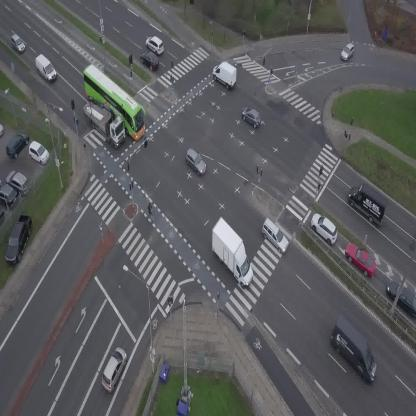bicycle: (145, 202, 155, 220)
bus: (73, 60, 156, 142)
car: (340, 237, 382, 281), (96, 345, 131, 394), (256, 217, 294, 255), (306, 209, 343, 247), (180, 147, 211, 178), (238, 103, 266, 130), (142, 32, 168, 58), (137, 48, 162, 74), (6, 33, 27, 56), (338, 41, 357, 62)
lorry: (197, 216, 268, 289), (319, 314, 390, 386), (76, 93, 134, 150), (341, 179, 395, 229), (208, 58, 242, 91), (31, 53, 60, 83)
